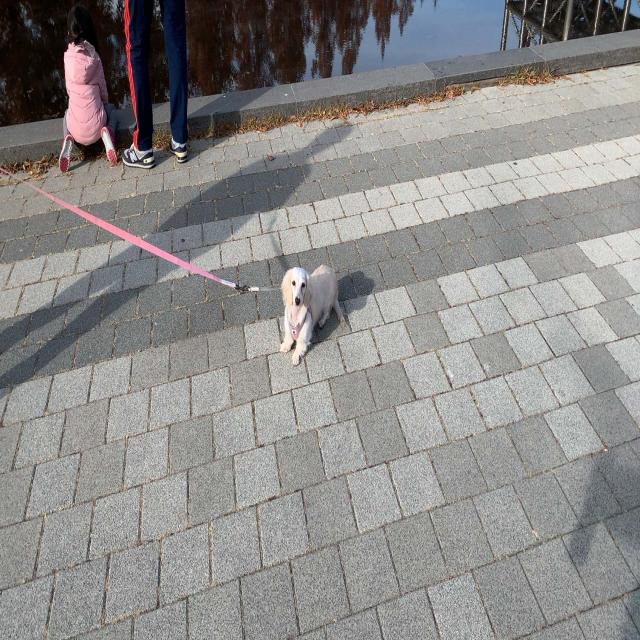Dog: (276, 260, 346, 370)
